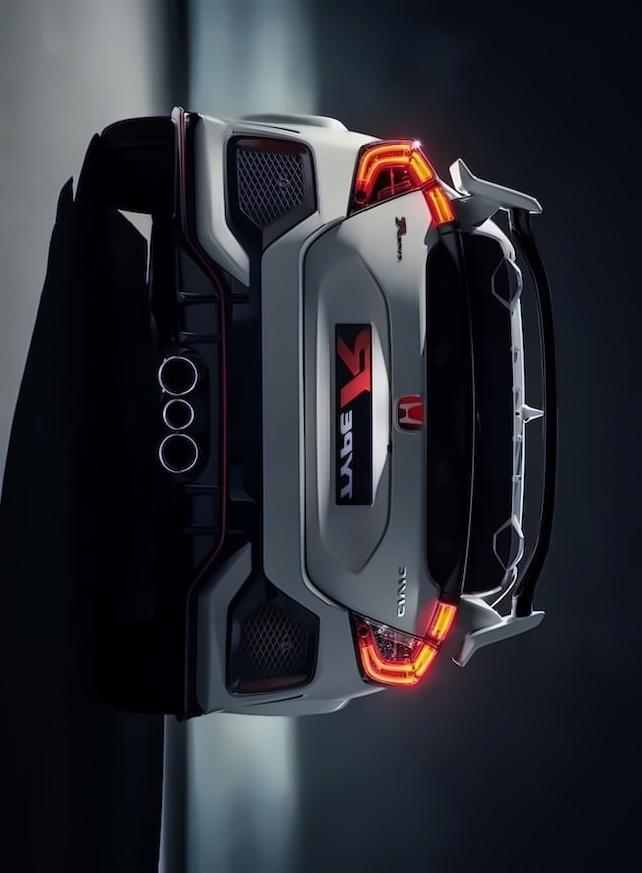Car boot: (296, 173, 484, 646)
Rear bumper: (154, 100, 370, 726)
Rear light - -L-: (342, 129, 462, 235)
Rear light - -R-: (347, 589, 466, 696)
